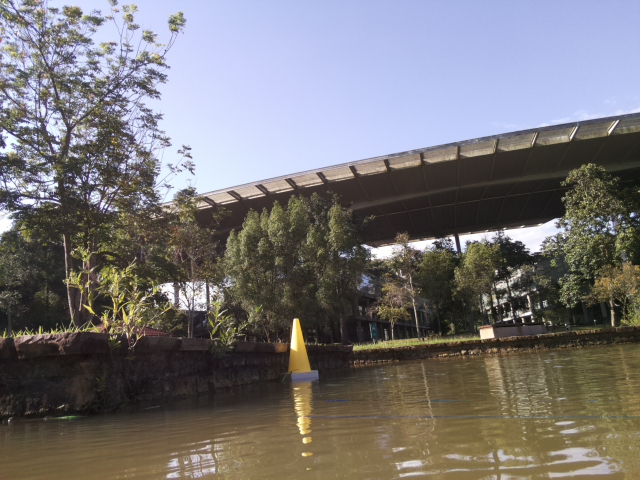checkpoint: (286, 318, 320, 381)
